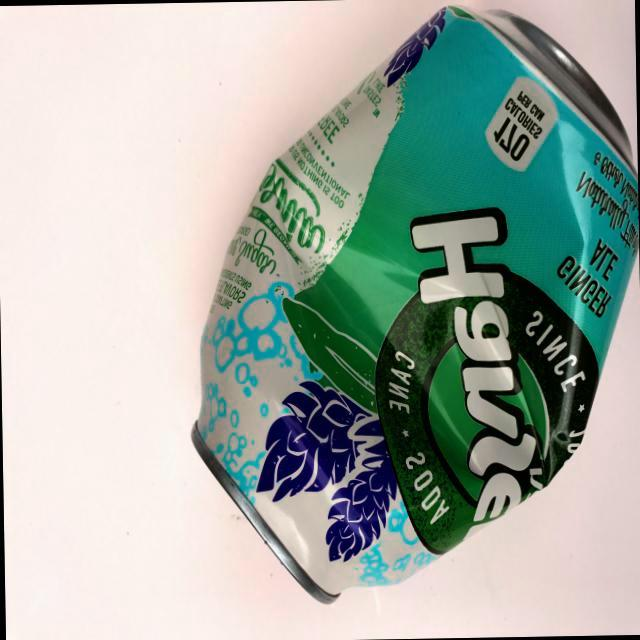metal: (163, 0, 640, 616)
